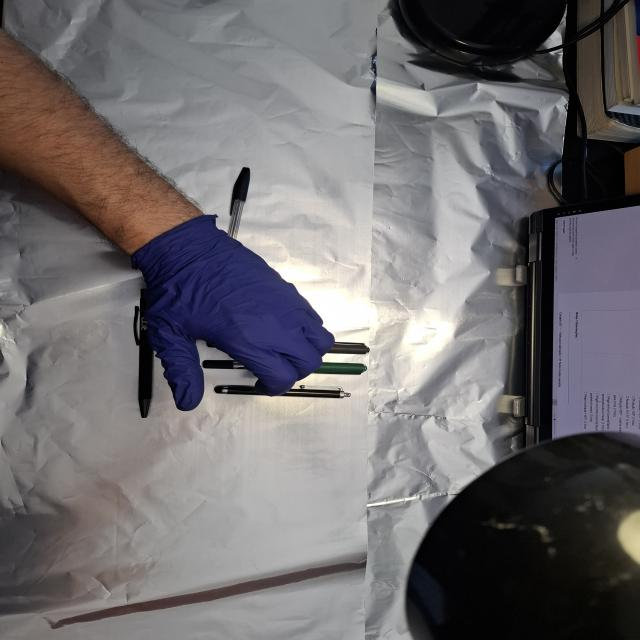glove_on: (126, 215, 338, 414)
